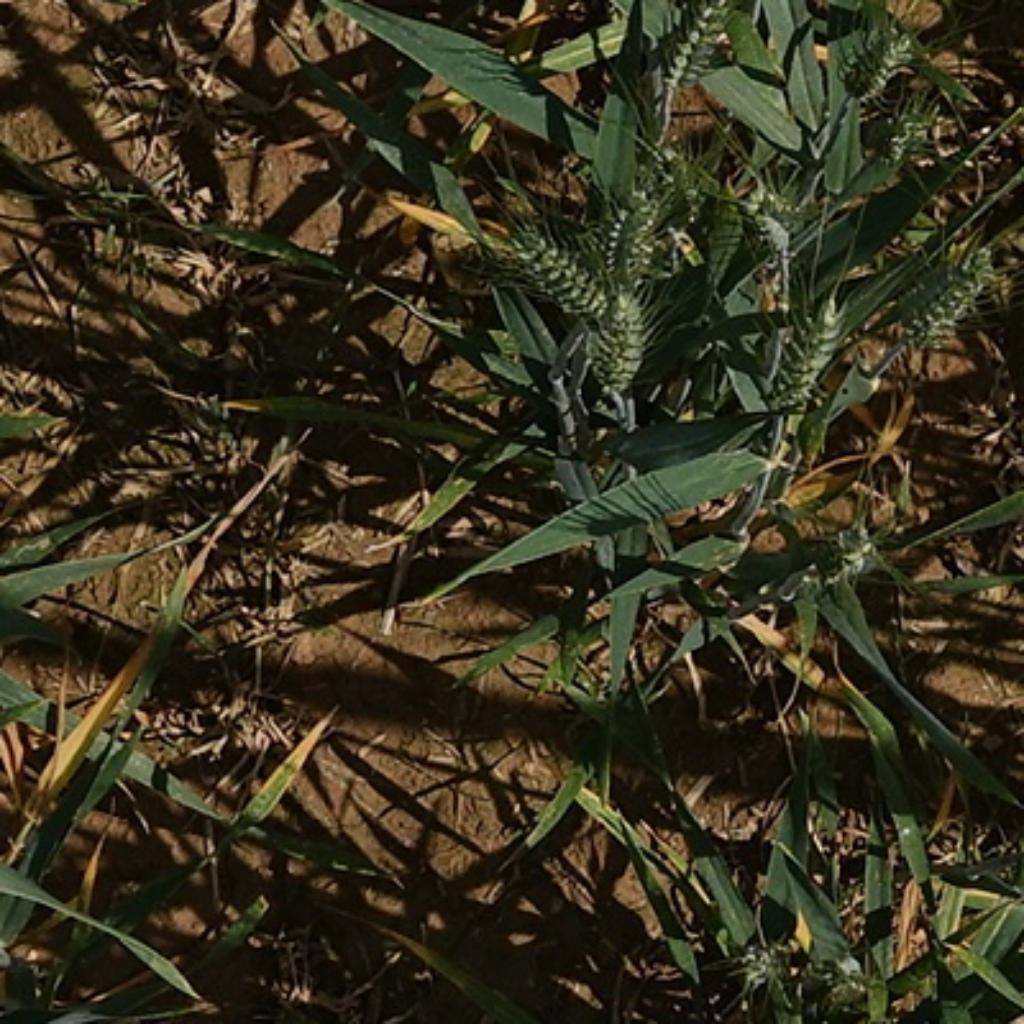0-0: (483, 207, 619, 311), (563, 256, 652, 386), (898, 243, 1003, 345), (769, 293, 847, 412), (657, 3, 736, 95), (608, 192, 670, 301), (817, 515, 898, 596), (853, 23, 931, 93), (808, 949, 878, 1024), (748, 186, 811, 259), (660, 133, 717, 213), (731, 935, 806, 993), (881, 101, 935, 163)
